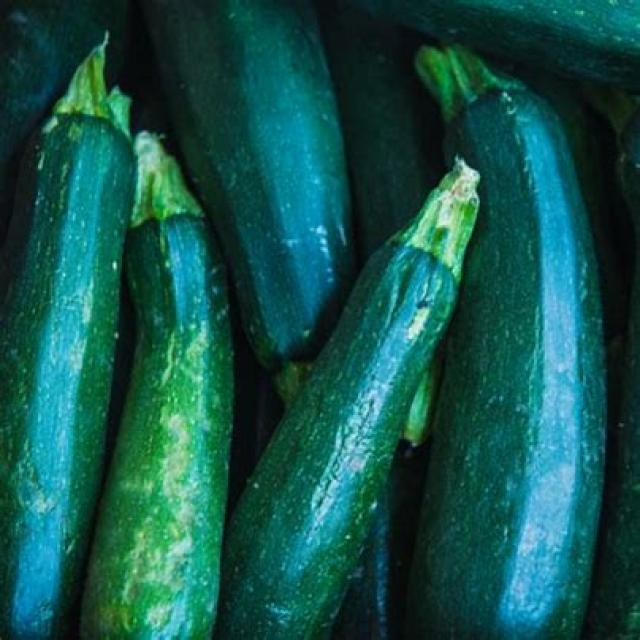Zucchini: (2, 38, 108, 637)
